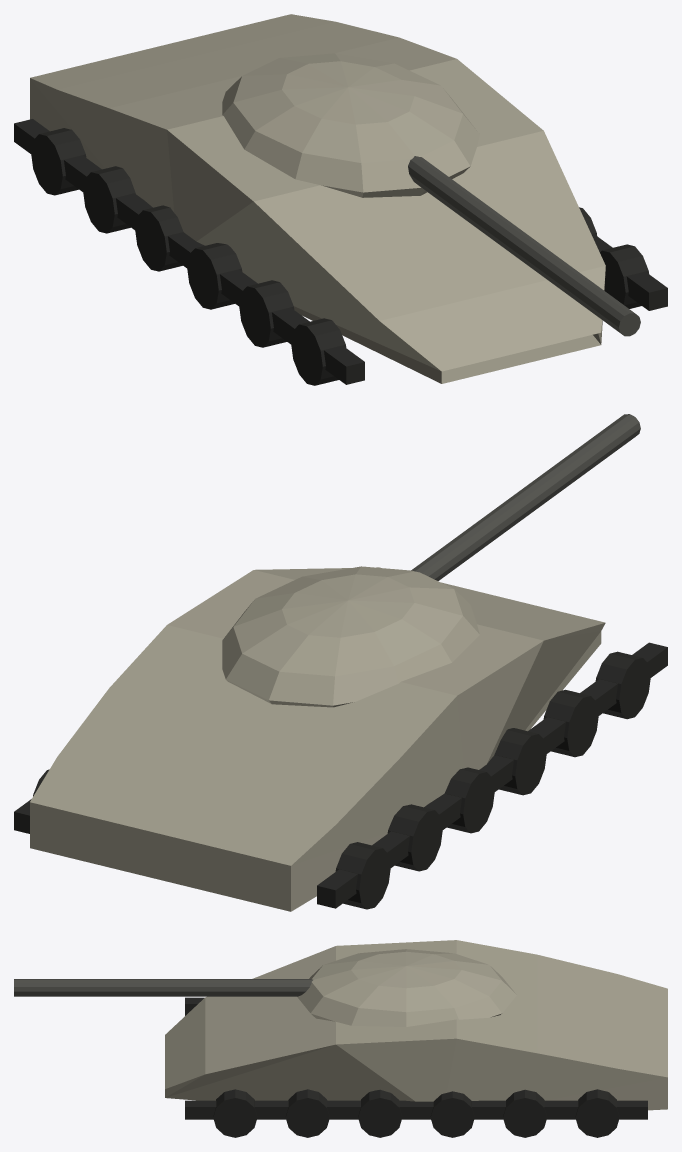
Rendered from t72_ddr.glb.
The picture shows the model from 3 angles, top to bottom: view 1: azimuth 30°, elevation 25°; view 2: azimuth 150°, elevation 25°; view 3: azimuth 270°, elevation 25°; orthographic projection. The views are drawn at different scales.
Visible parts, largest first — view 1: Hull, Turret, Gun, Track_L, Wheel_L_02, Wheel_L_06, Wheel_L_01, Wheel_L_03, Wheel_L_05, Wheel_L_04, Wheel_R_01, Track_R; view 2: Hull, Turret, Gun, Track_L, Wheel_L_01, Wheel_L_02, Wheel_L_06, Wheel_L_05, Wheel_L_03, Wheel_L_04; view 3: Hull, Turret, Gun, Track_R, Wheel_R_06, Wheel_R_01, Wheel_R_02, Wheel_R_03, Wheel_R_05, Wheel_R_04.
Boxes of the visible parts, <box> form: Hull: <box>30,14,605,383</box>; Turret: <box>222,53,479,197</box>; Gun: <box>408,156,640,336</box>; Track_L: <box>14,119,364,384</box>; Wheel_L_02: <box>239,280,294,347</box>; Wheel_L_06: <box>31,128,86,195</box>; Wheel_L_01: <box>291,318,346,385</box>; Wheel_L_03: <box>187,243,242,309</box>; Wheel_L_05: <box>83,166,135,233</box>; Wheel_L_04: <box>135,205,183,271</box>; Wheel_R_01: <box>600,244,648,308</box>; Track_R: <box>591,233,667,310</box>; Hull: <box>30,567,605,911</box>; Turret: <box>222,566,479,707</box>; Gun: <box>411,414,640,580</box>; Track_L: <box>317,642,667,908</box>; Wheel_L_01: <box>595,651,650,719</box>; Wheel_L_02: <box>543,689,598,757</box>; Wheel_L_06: <box>335,842,390,909</box>; Wheel_L_05: <box>387,804,442,871</box>; Wheel_L_03: <box>494,728,546,795</box>; Wheel_L_04: <box>444,767,494,833</box>; Hull: <box>165,940,667,1110</box>; Turret: <box>297,949,516,1026</box>; Gun: <box>14,979,312,996</box>; Track_R: <box>185,1100,647,1119</box>; Wheel_R_06: <box>575,1089,619,1137</box>; Wheel_R_01: <box>213,1089,257,1137</box>; Wheel_R_02: <box>285,1089,329,1137</box>; Wheel_R_03: <box>358,1089,402,1137</box>; Wheel_R_05: <box>503,1089,547,1137</box>; Wheel_R_04: <box>430,1091,474,1137</box>.
Bounding box in the file's own units: 3.6 × 1.75 × 8.92.
